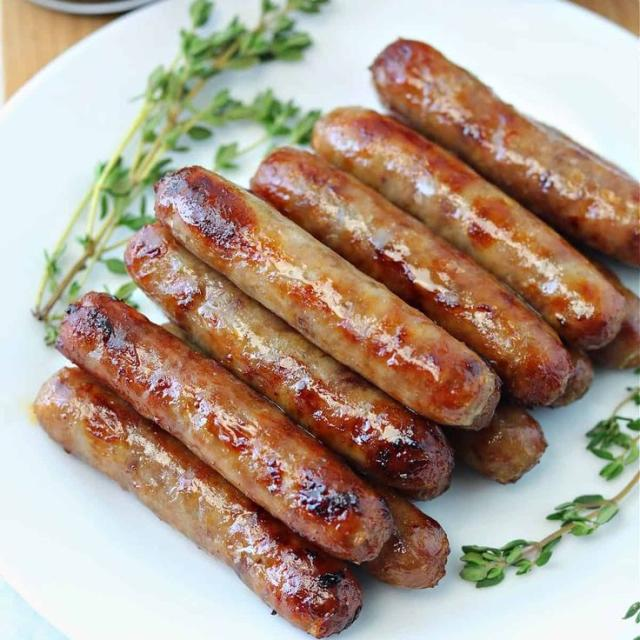sausage: (57, 293, 392, 562), (155, 167, 499, 428), (126, 224, 453, 498), (34, 368, 361, 637), (252, 148, 571, 406), (314, 108, 624, 348), (372, 40, 639, 265), (363, 485, 449, 588), (447, 403, 546, 483), (590, 261, 639, 369), (551, 347, 593, 407)
